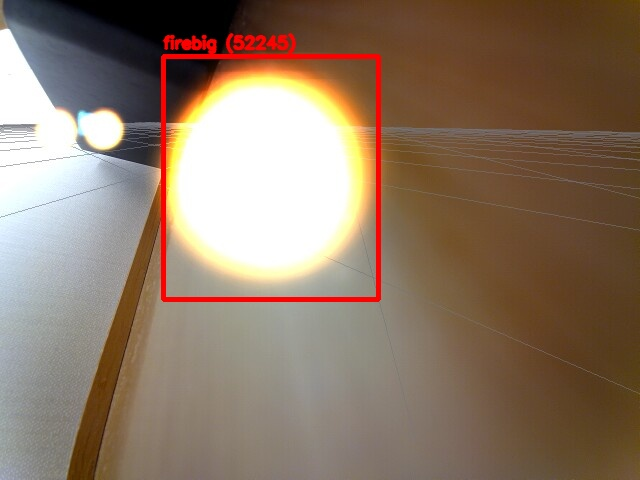firebig: (163, 56, 378, 299)
